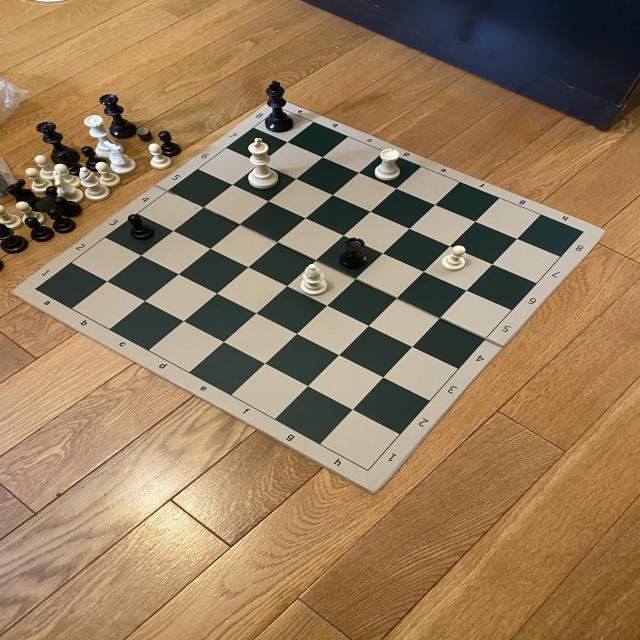Chessboard-Corners: (362, 464, 375, 476), (31, 286, 45, 294), (576, 228, 587, 235)
